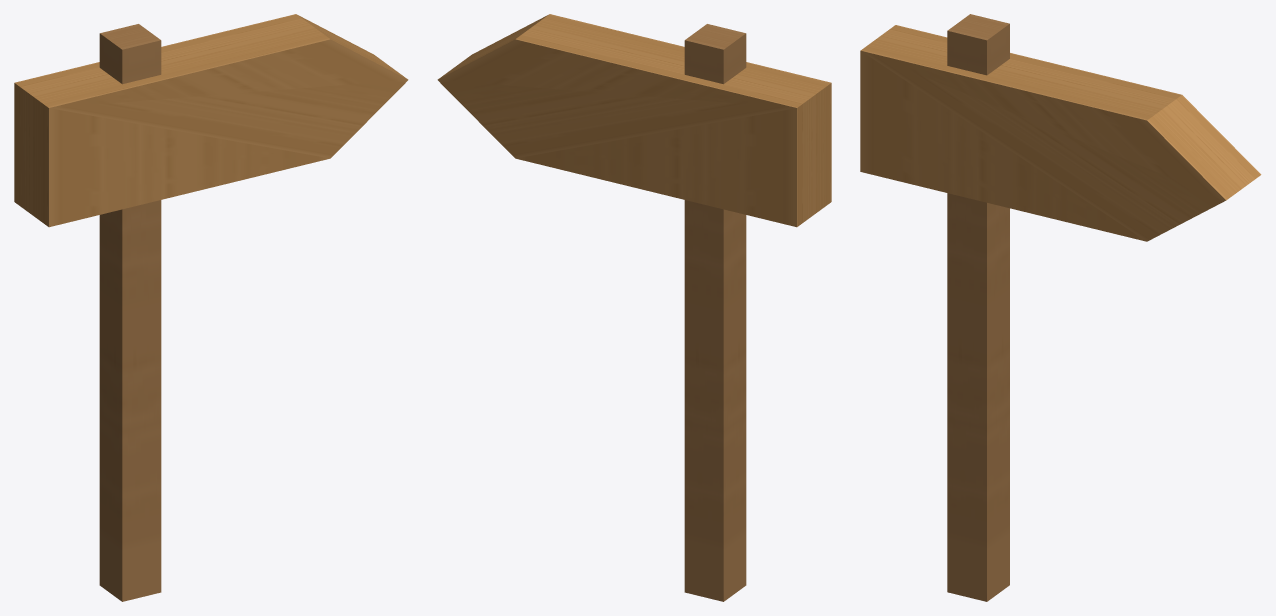
The model's file is signpost.glb.
3 views of the same model, side by side, from view 1: azimuth 30°, elevation 25°; view 2: azimuth 150°, elevation 25°; view 3: azimuth 330°, elevation 25° (orthographic).
Parts seen in each view (by area): view 1: beach_signpost; view 2: beach_signpost; view 3: beach_signpost.
Part boxes in pixels (bbox=[...]): beach_signpost: bbox=[14, 14, 408, 601]; beach_signpost: bbox=[437, 14, 831, 601]; beach_signpost: bbox=[860, 14, 1261, 601].
Bounding box in the file's own units: 1.2 × 1.76 × 0.2.
1 material, 1 textured.
